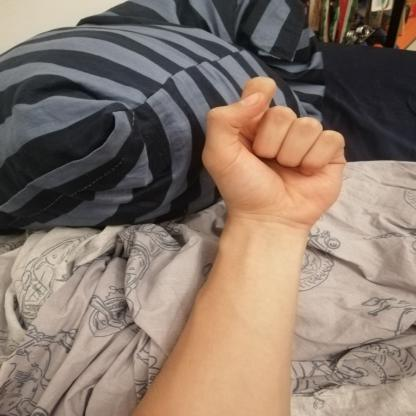FAA: (188, 71, 361, 233)
